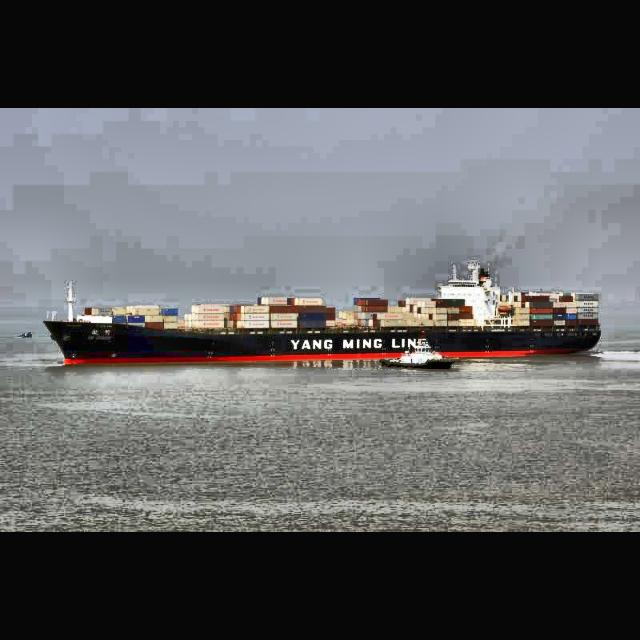container: (41, 256, 604, 370)
tug: (380, 339, 460, 371)
